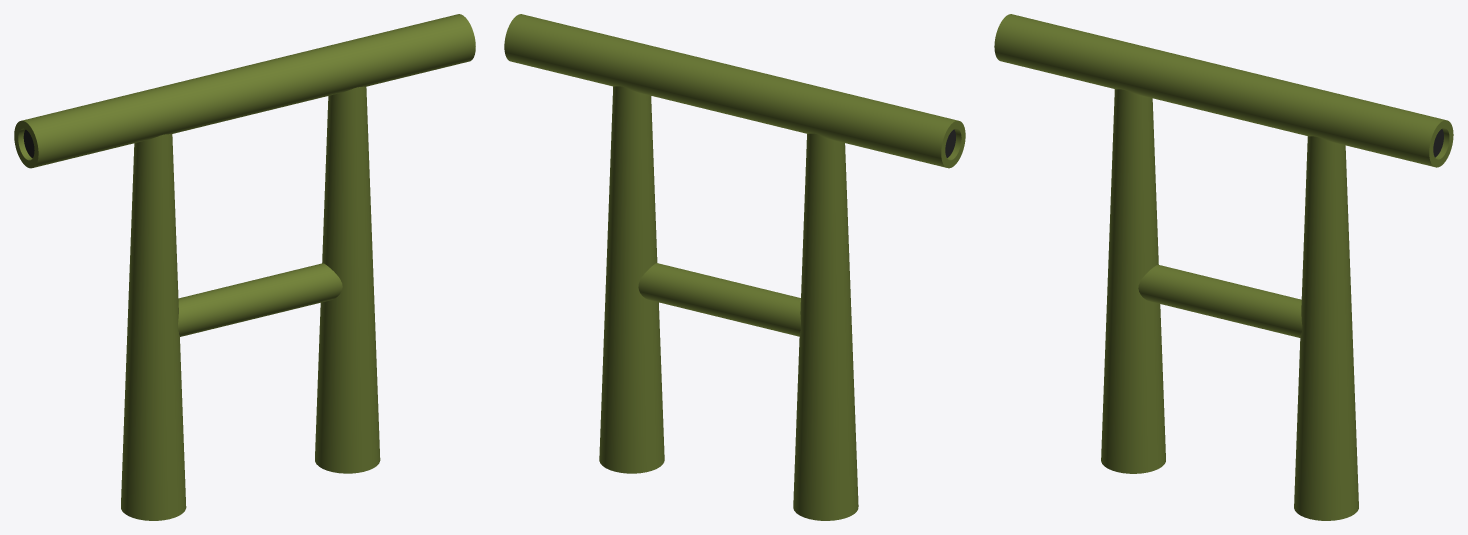
The model's file is Drying crap 2.fbx.
The picture shows the model from 3 angles, left to right: view 1: azimuth 30°, elevation 25°; view 2: azimuth 150°, elevation 25°; view 3: azimuth 330°, elevation 25°; orthographic projection.
Visible parts, largest first — view 1: Drying crap 2; view 2: Drying crap 2; view 3: Drying crap 2.
Part boxes in pixels (x1,y1,x2,y2): Drying crap 2: (14, 14, 475, 520); Drying crap 2: (504, 14, 965, 520); Drying crap 2: (994, 14, 1453, 520).
Size of the model in its own units: 508 by 462 by 65.98.
